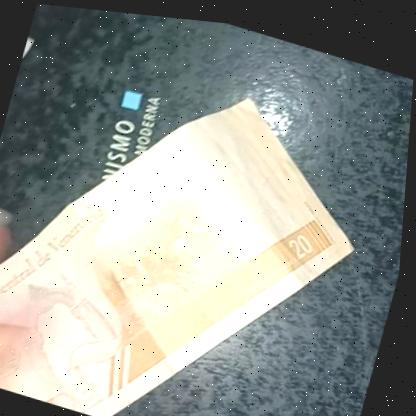twenty-back-vef: (0, 25, 402, 416)
